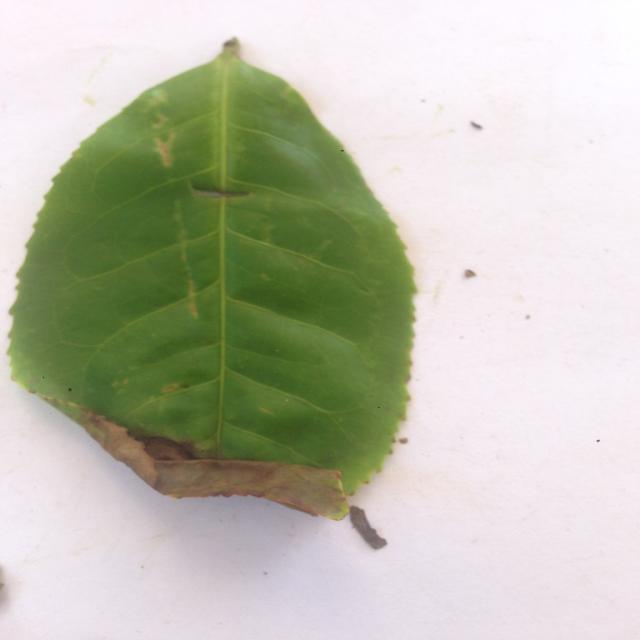Brown Blight: (0, 30, 478, 556)
